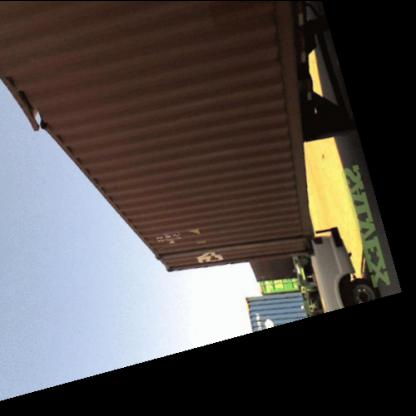Damage: (153, 221, 307, 268), (1, 46, 73, 134)
